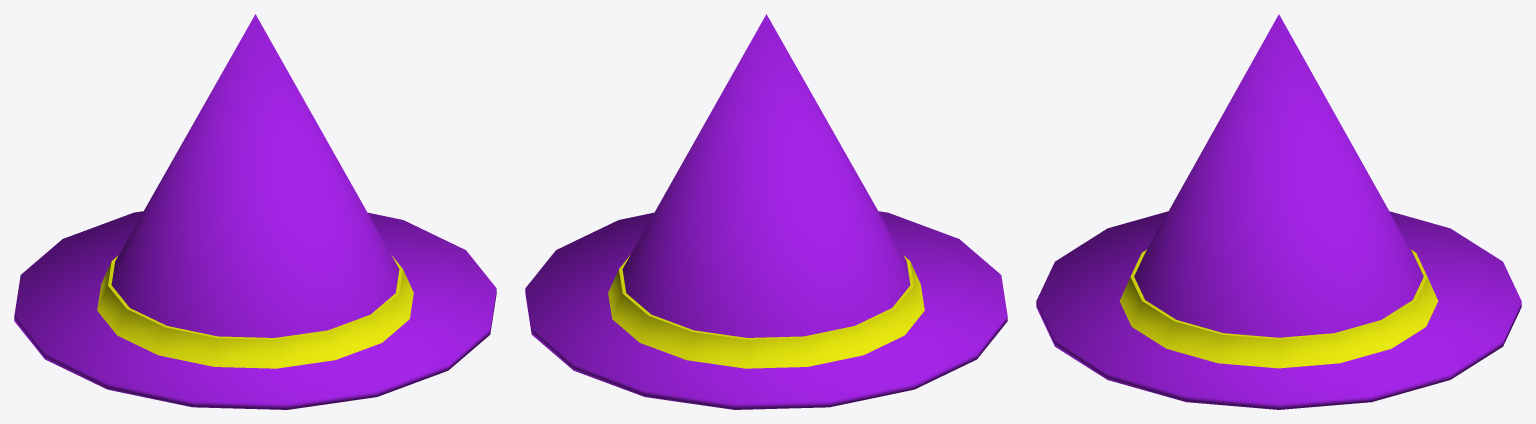
The model's file is mage-transformed.glb.
The picture shows the model from 3 angles, left to right: view 1: azimuth 30°, elevation 25°; view 2: azimuth 150°, elevation 25°; view 3: azimuth 270°, elevation 25°; orthographic projection.
Parts seen in each view (by area): view 1: Cone; view 2: Cone; view 3: Cone.
Part boxes in pixels (left/top/right/bottom): Cone: left=14, top=14, right=496, bottom=409; Cone: left=525, top=14, right=1007, bottom=409; Cone: left=1036, top=14, right=1521, bottom=409.
Size of the model in its own units: 3.35 by 2.24 by 3.35.
